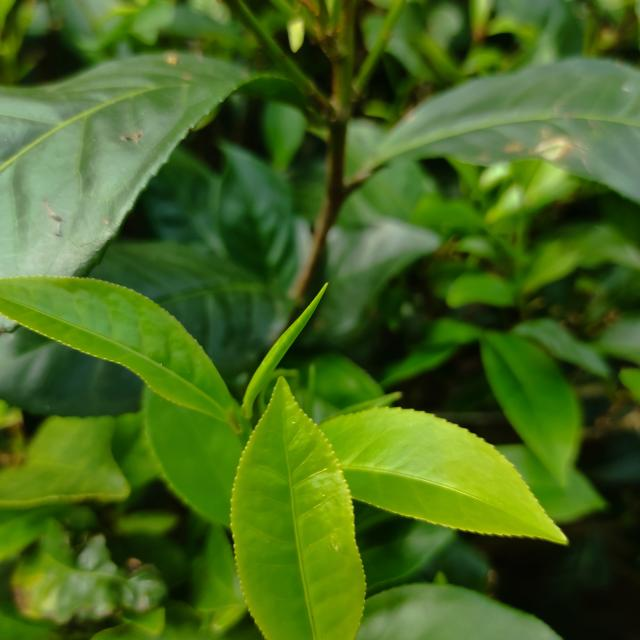unopened_leaf: (236, 276, 338, 423)
